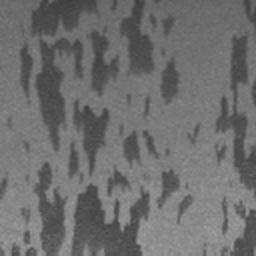Red iron sheet: (10, 0, 180, 256), (214, 35, 256, 197), (219, 198, 256, 256), (177, 193, 193, 225), (241, 0, 256, 24), (186, 123, 201, 146), (0, 178, 8, 198), (143, 96, 150, 116), (109, 0, 119, 12), (127, 93, 132, 105)
